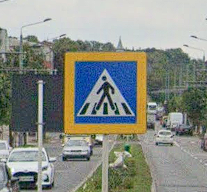trecere_pietoni: (62, 51, 148, 135)
